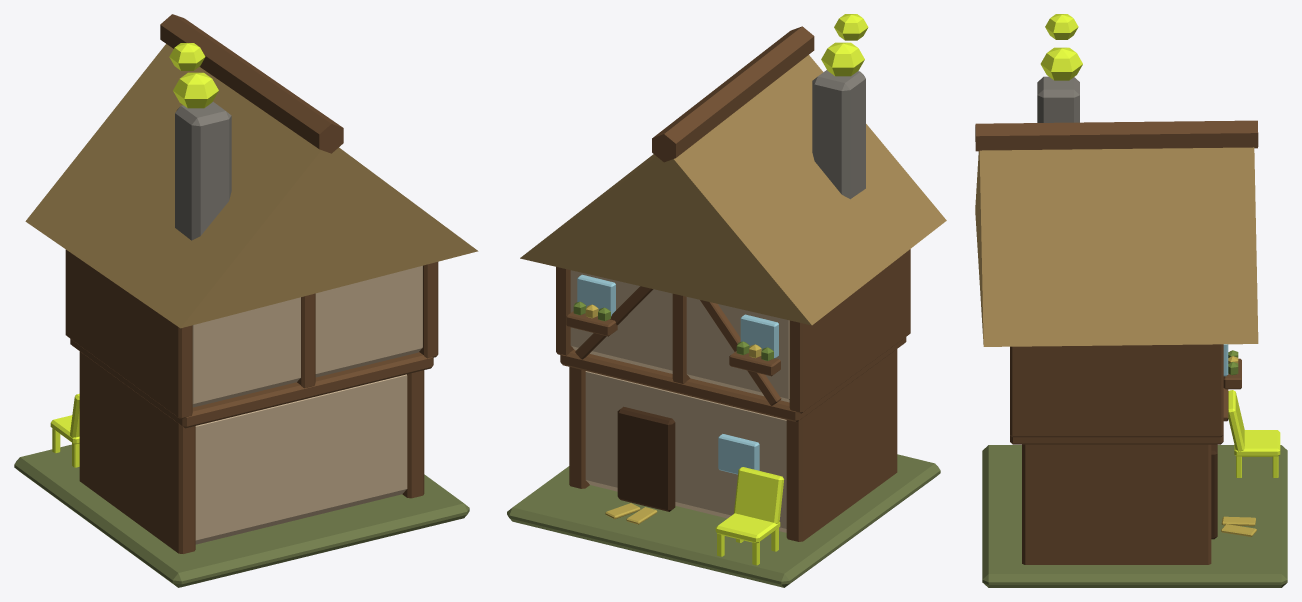
The model's file is cottage_l2.fbx.
3 renders of one model, left to right at view 1: azimuth 30°, elevation 25°; view 2: azimuth 150°, elevation 25°; view 3: azimuth 270°, elevation 25°, orthographic. The views are drawn at different scales.
Visible parts, largest first — view 1: Building; view 2: Building; view 3: Building.
Part boxes in pixels (bbox=[...]): Building: bbox=[14, 14, 478, 587]; Building: bbox=[507, 14, 946, 587]; Building: bbox=[975, 14, 1287, 587].
Bounding box in the file's own units: 1.08 × 1.02 × 1.68.
